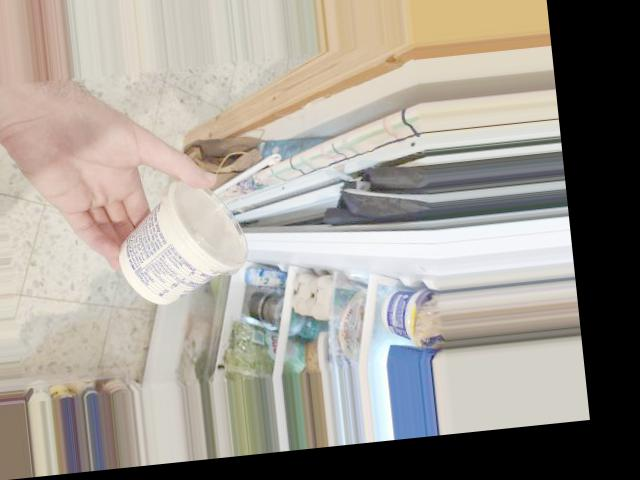cotage: (125, 182, 252, 303)
